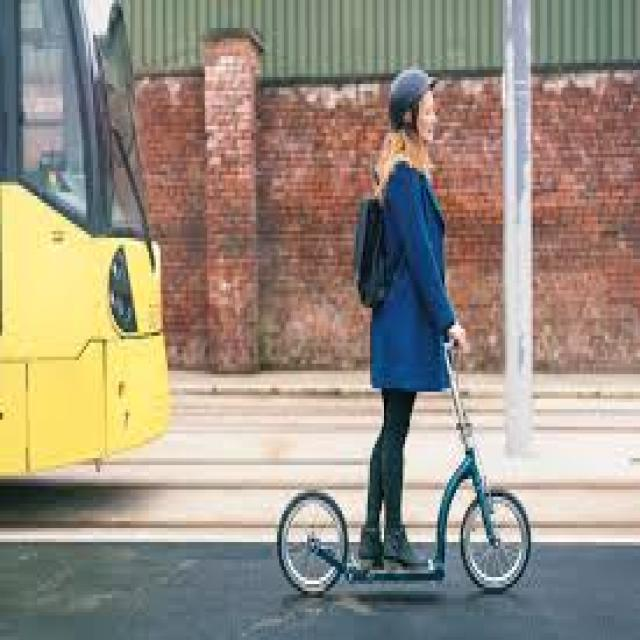helmet: (273, 58, 536, 621)
